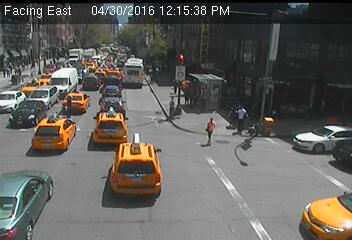neg: (126, 128, 150, 160), (119, 57, 142, 88), (258, 114, 280, 143), (97, 102, 119, 131), (42, 110, 62, 136), (260, 74, 279, 100), (172, 125, 189, 149), (198, 76, 214, 98), (235, 73, 251, 95), (94, 58, 108, 77), (10, 76, 19, 88)
pos: (194, 113, 222, 150), (230, 102, 255, 136), (222, 100, 245, 131), (58, 92, 79, 120), (164, 95, 182, 119), (168, 75, 183, 95)
